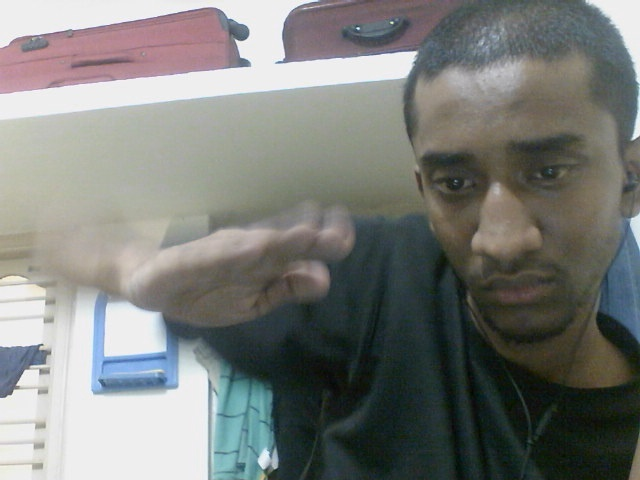hand: (124, 204, 357, 331)
